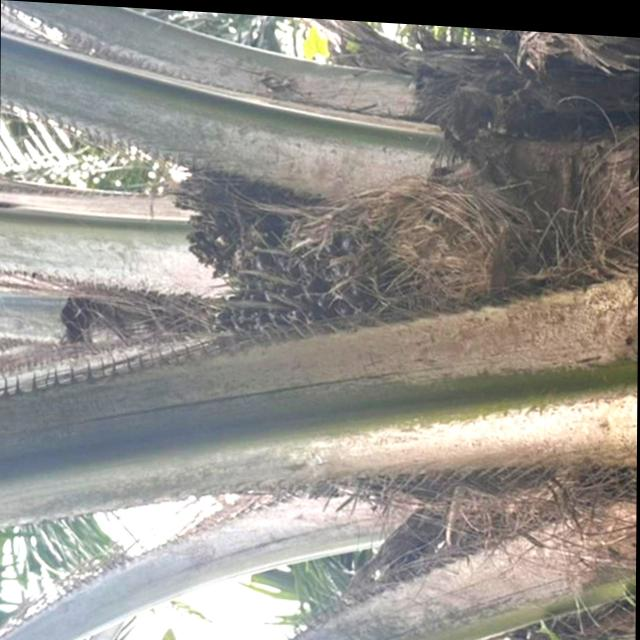almost: (199, 186, 436, 357)
